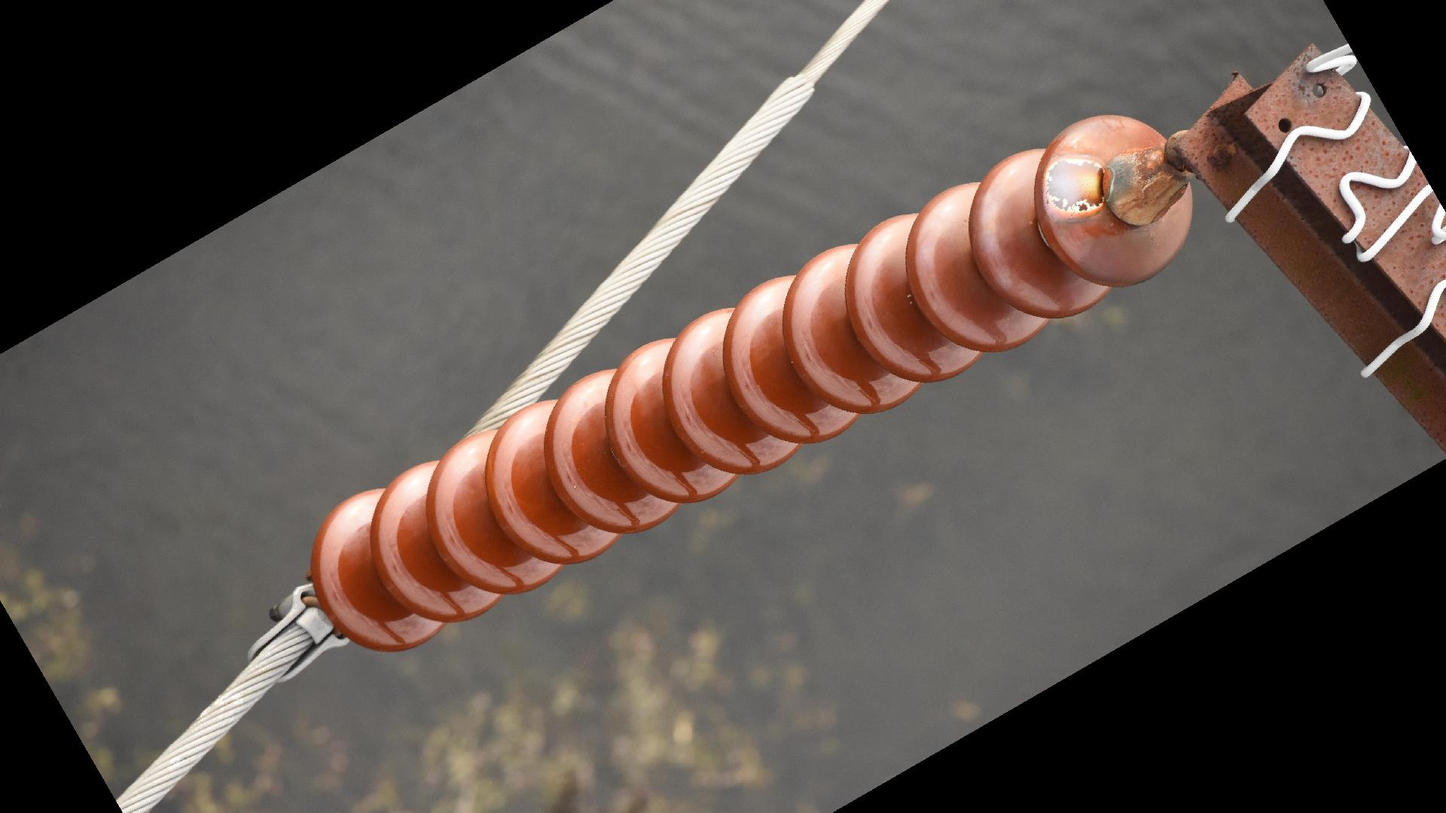insulator: (300, 109, 1197, 658)
insulator_flashover: (1042, 155, 1111, 218)
